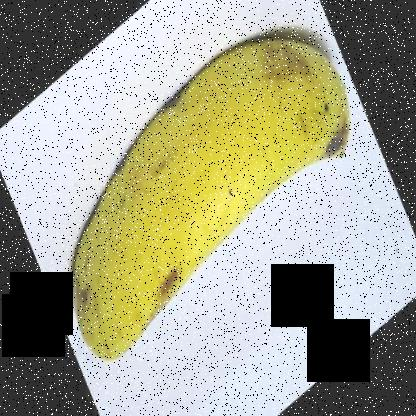freshripe: (64, 13, 367, 372)
